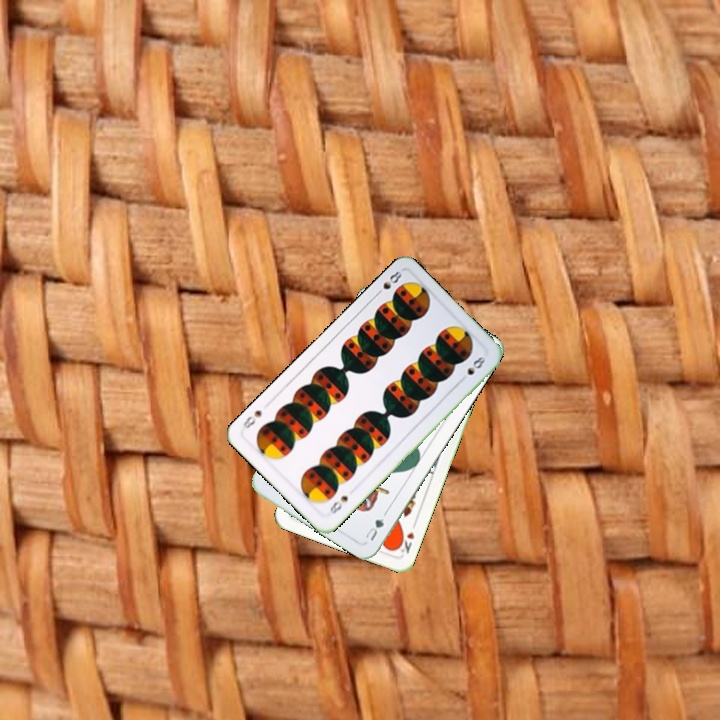GU: (361, 514, 387, 543)
HK: (393, 518, 419, 556)
S8: (371, 267, 405, 299), (323, 491, 351, 519)
